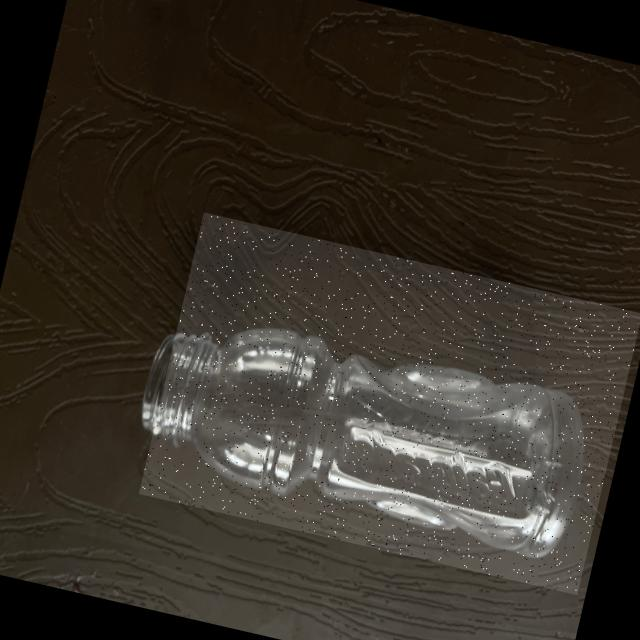PET_ClearBottle: (137, 211, 640, 594)
